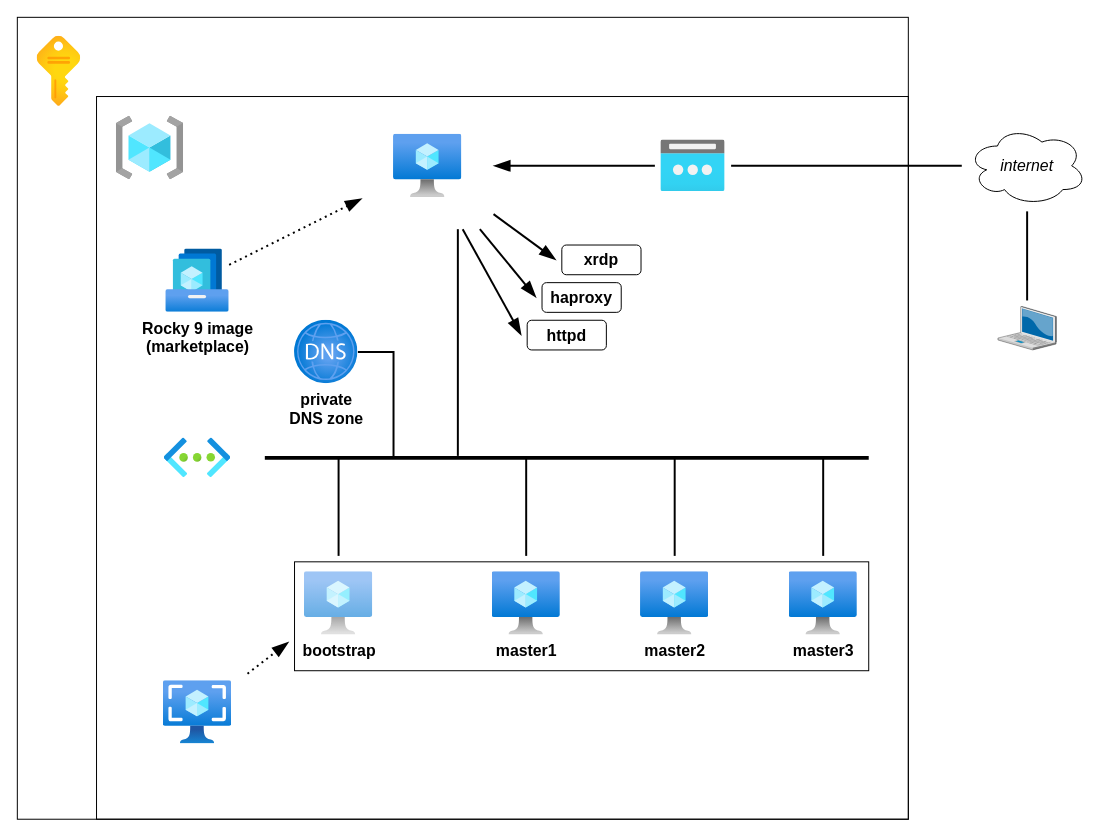
The diagram is 1104 pixels wide and 837 high, and some of its shapes have lost their labels. Here are the shapes that lost their labels. From the top down, the centre of each, then its label:
At point 427,165: "okd-services".
At point 692,165: "Public IP".
At point 1026,327: "management PC".
At point 197,457: "okd-vnet".
At point 197,711: "FCOS image (VHD upload)".
